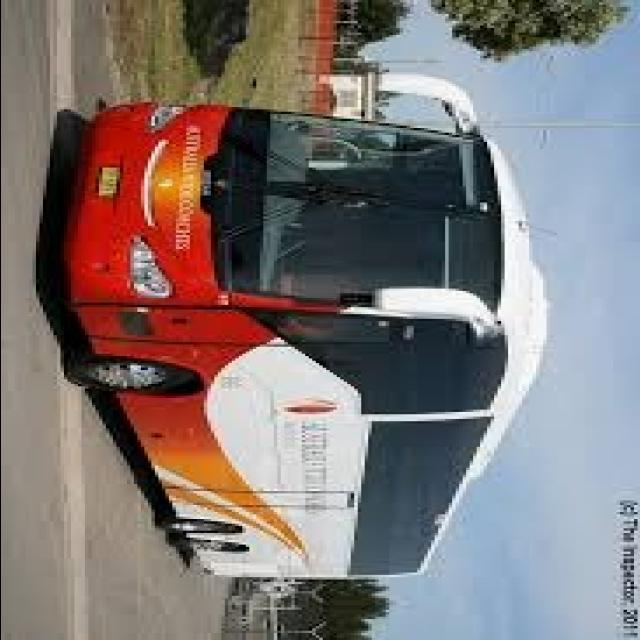bus: (45, 51, 561, 594)
